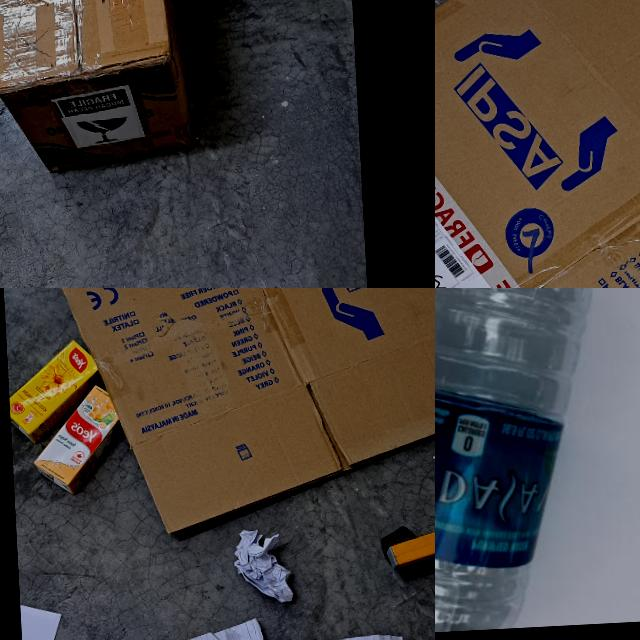caixinha: (30, 384, 126, 496), (7, 339, 101, 446)
garrafa plástica: (435, 288, 609, 636)
papel: (232, 527, 295, 604), (20, 599, 95, 640)
papelão: (31, 288, 435, 546), (435, 0, 640, 288), (0, 0, 194, 176)
